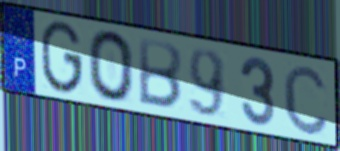3: (239, 55, 276, 128)
9: (186, 46, 230, 118)
B: (136, 35, 184, 112)
C: (281, 62, 330, 138)
G: (40, 19, 85, 97)
O: (85, 28, 136, 104)
